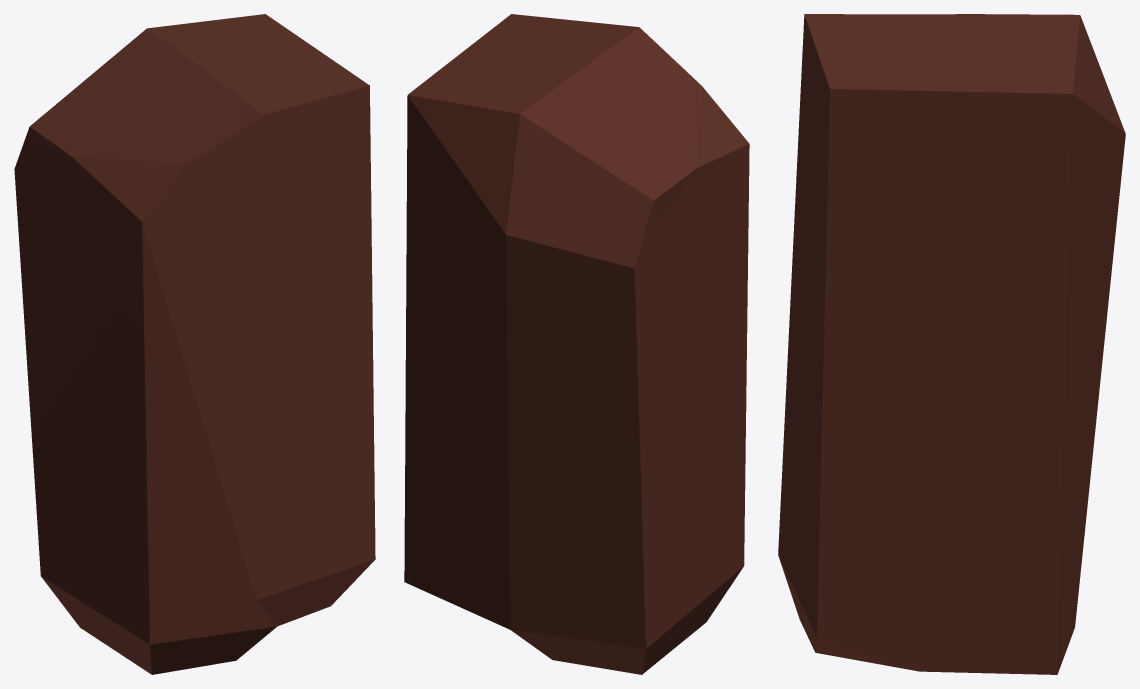
Rendered from entity108244.glb.
3 views of the same model, side by side, from view 1: azimuth 30°, elevation 25°; view 2: azimuth 150°, elevation 25°; view 3: azimuth 270°, elevation 25° (orthographic). The views are drawn at different scales.
Parts seen in each view (by area): view 1: node_SM_Env_Rock_08 (8); view 2: node_SM_Env_Rock_08 (8); view 3: node_SM_Env_Rock_08 (8).
Boxes of the visible parts, <box> form: node_SM_Env_Rock_08 (8): <box>14,14,375,674</box>; node_SM_Env_Rock_08 (8): <box>404,14,749,674</box>; node_SM_Env_Rock_08 (8): <box>778,14,1125,674</box>.
Size of the model in its own units: 2.86 by 6.09 by 2.94.
Materials: 1 (1 with a texture image).
